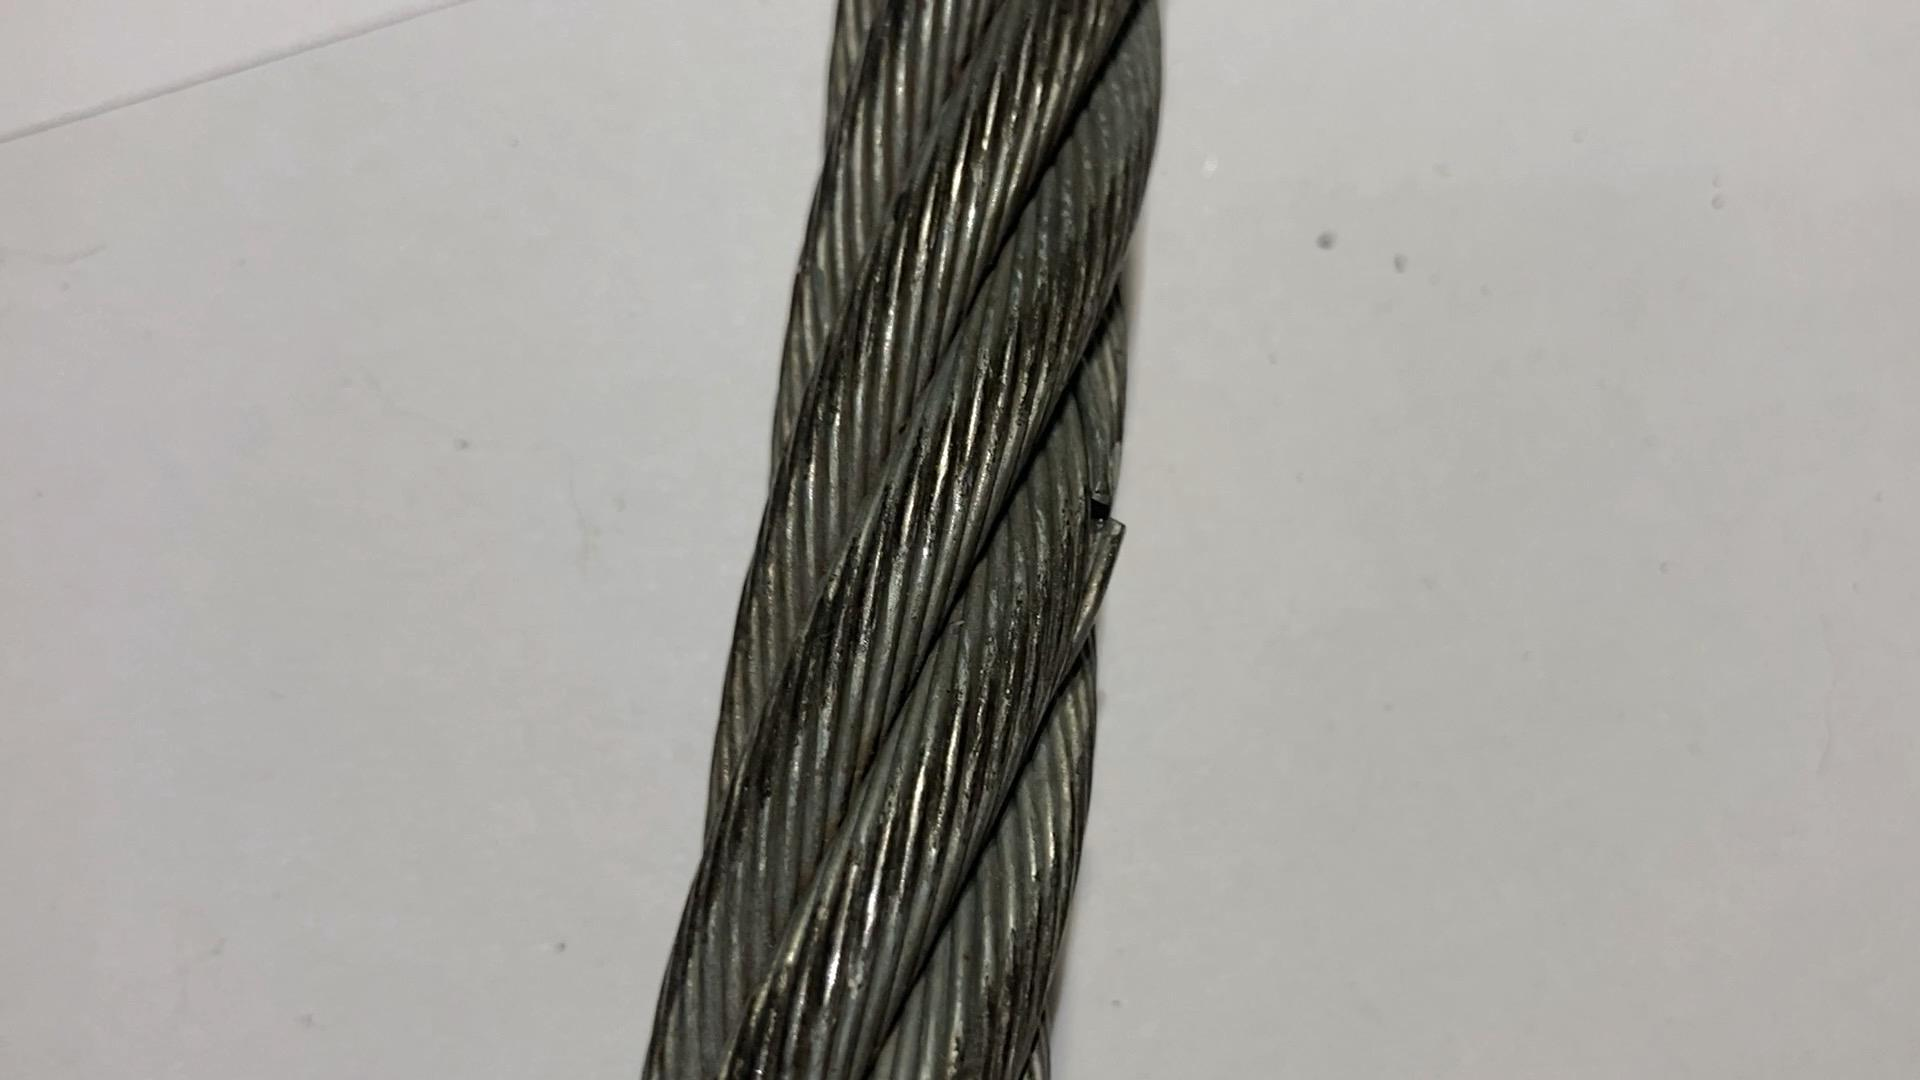break: (1062, 433, 1154, 574)
